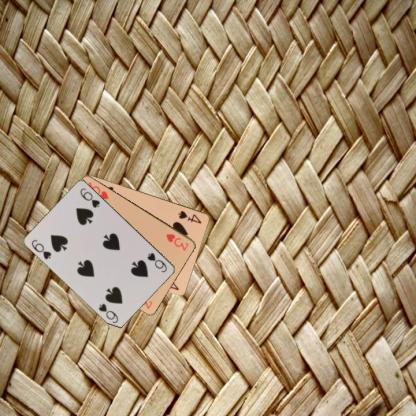3h: (164, 231, 190, 252)
4s: (176, 208, 202, 225)
6s: (145, 250, 168, 274), (29, 237, 53, 260)
